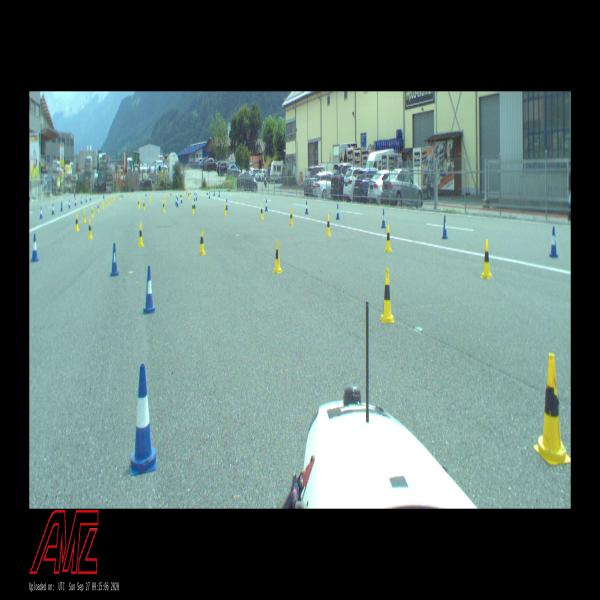blue_cone: (130, 364, 157, 474), (143, 266, 155, 314), (110, 243, 120, 276), (550, 227, 558, 257), (30, 234, 38, 262), (442, 215, 448, 240), (381, 209, 386, 228), (336, 204, 340, 219), (305, 201, 308, 214), (39, 206, 42, 219), (225, 198, 228, 210), (265, 200, 268, 211), (60, 202, 63, 212), (52, 204, 54, 215), (177, 197, 179, 207), (68, 199, 70, 208), (218, 191, 220, 197), (194, 198, 195, 209), (213, 190, 215, 195), (176, 195, 177, 204), (75, 198, 76, 206), (181, 195, 182, 203), (196, 193, 197, 201), (209, 192, 210, 199), (146, 192, 146, 196)
yellow_cone: (534, 353, 570, 465), (380, 268, 395, 323), (481, 240, 492, 278), (274, 239, 282, 273), (385, 224, 392, 252), (199, 229, 205, 255), (138, 224, 144, 246), (326, 214, 331, 234), (88, 220, 93, 238), (75, 214, 79, 231), (289, 209, 293, 226), (260, 205, 263, 219), (83, 209, 86, 223), (91, 206, 94, 217), (102, 199, 105, 210), (97, 202, 100, 212), (224, 203, 226, 216), (192, 202, 194, 214), (163, 200, 165, 212), (138, 198, 140, 208), (150, 194, 152, 204), (143, 201, 145, 210), (106, 198, 108, 207), (186, 190, 188, 197), (164, 194, 165, 202), (188, 191, 189, 198), (190, 190, 191, 197), (109, 198, 110, 205), (180, 192, 181, 199)
